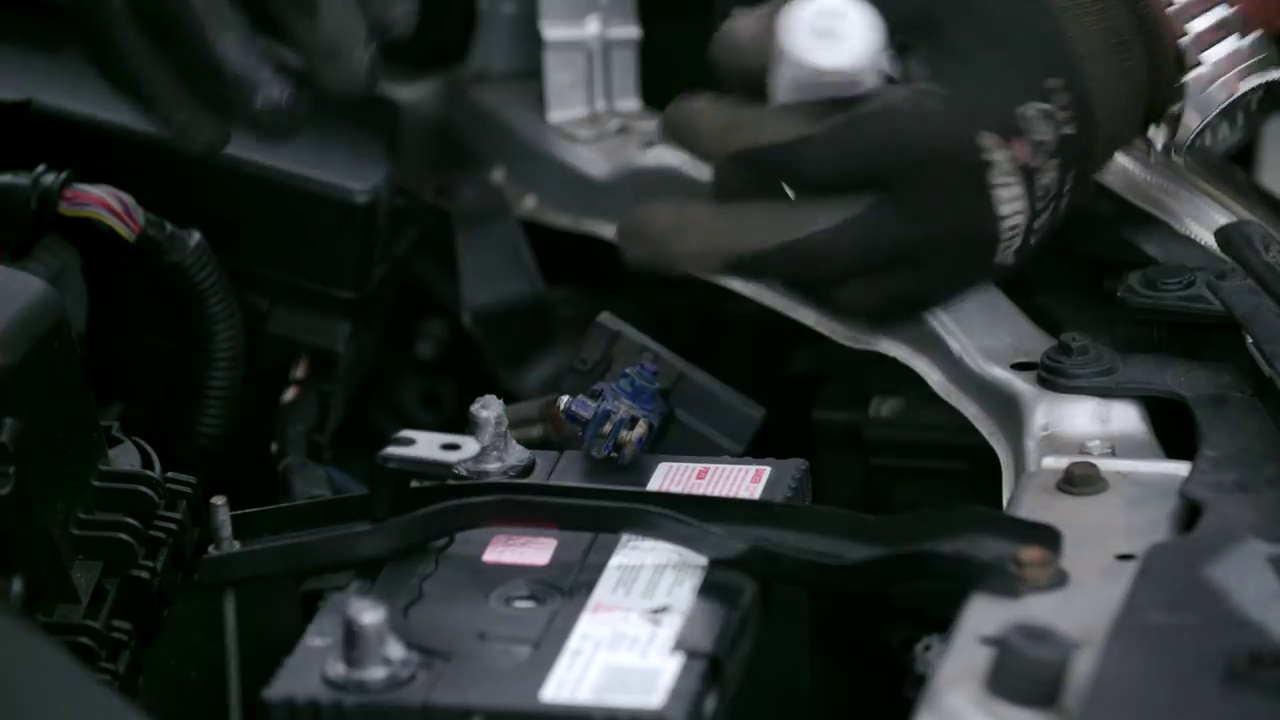battery: (259, 421, 808, 720)
